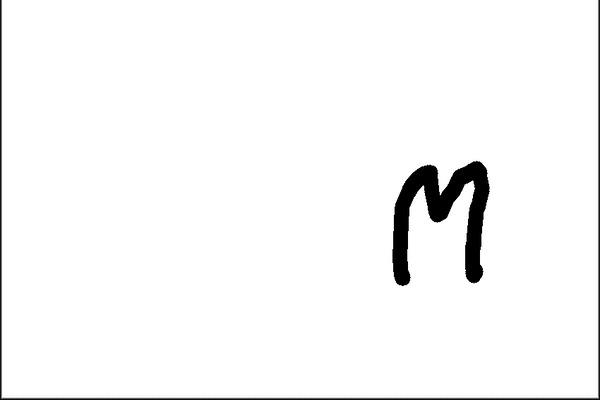M: (387, 157, 486, 288)
